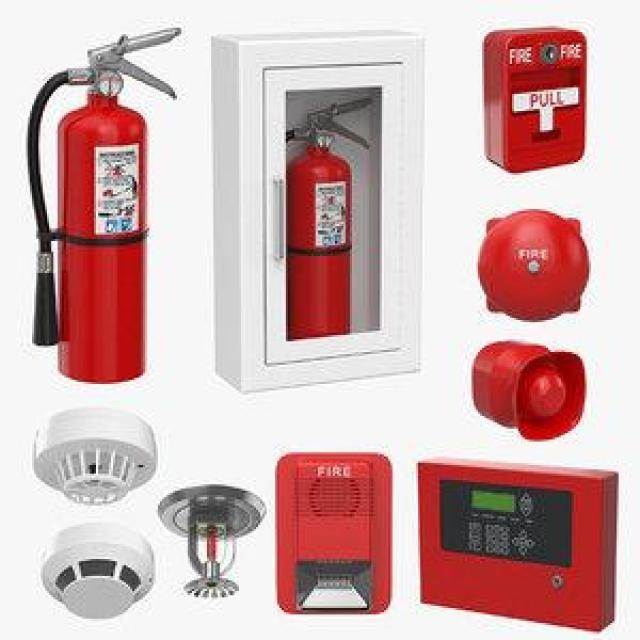fire_extinguisher: (18, 22, 187, 388), (252, 91, 378, 372)
